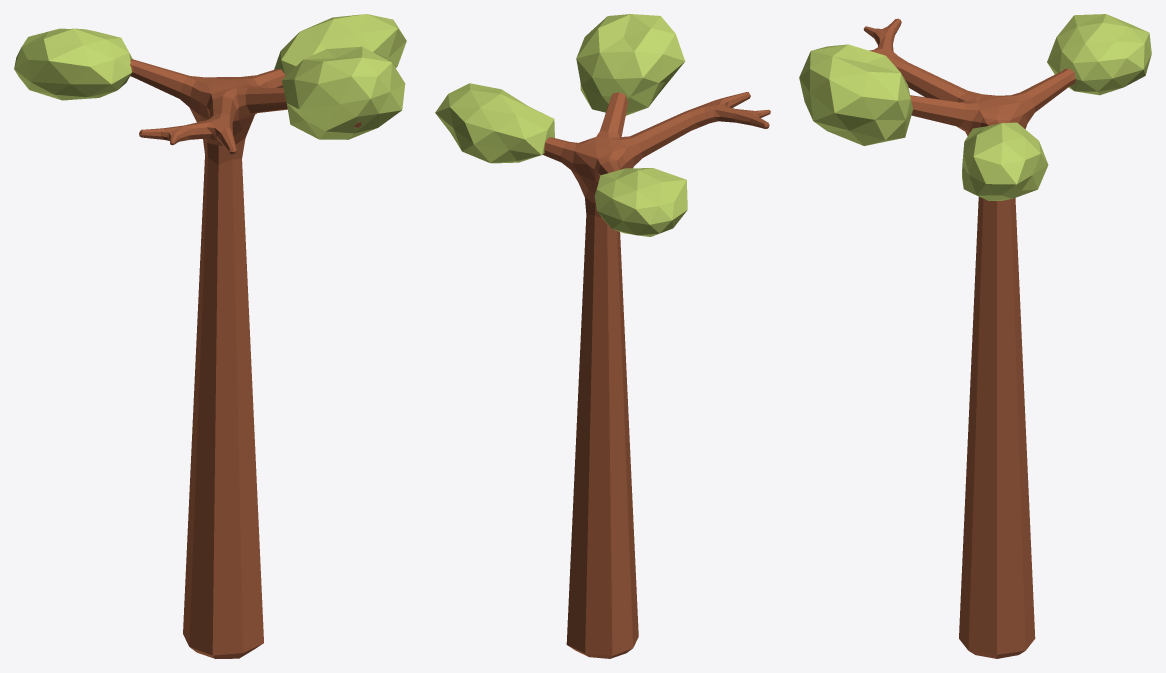
The model's file is MammutTree_2.fbx.
3 renders of one model, left to right at view 1: azimuth 30°, elevation 25°; view 2: azimuth 150°, elevation 25°; view 3: azimuth 270°, elevation 25°, orthographic. The views are drawn at different scales.
Parts seen in each view (by area): view 1: MammutTree_2; view 2: MammutTree_2; view 3: MammutTree_2.
Boxes of the visible parts, x1,y1,x2,y2 form: MammutTree_2: (14, 14, 406, 658); MammutTree_2: (435, 14, 770, 658); MammutTree_2: (799, 14, 1151, 658).
Bounding box in the file's own units: 1119 × 2136 × 1098.
